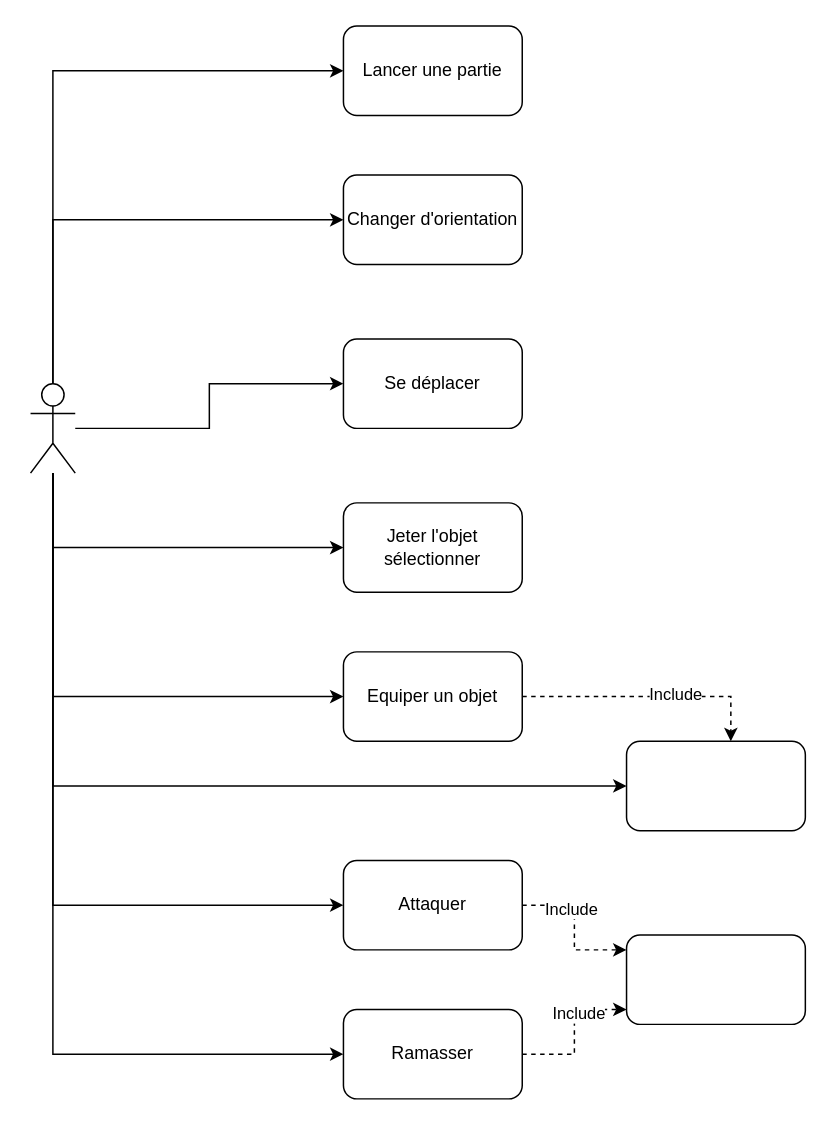
This 831x1125 diagram has some shape labels left out. Here are the shapes that lost their labels. From the top down, the box of each, then its label:
(29, 382, 75, 473): Joueur
(625, 740, 805, 831): Ouvrir l'inventaire
(625, 933, 805, 1024): Interagir
